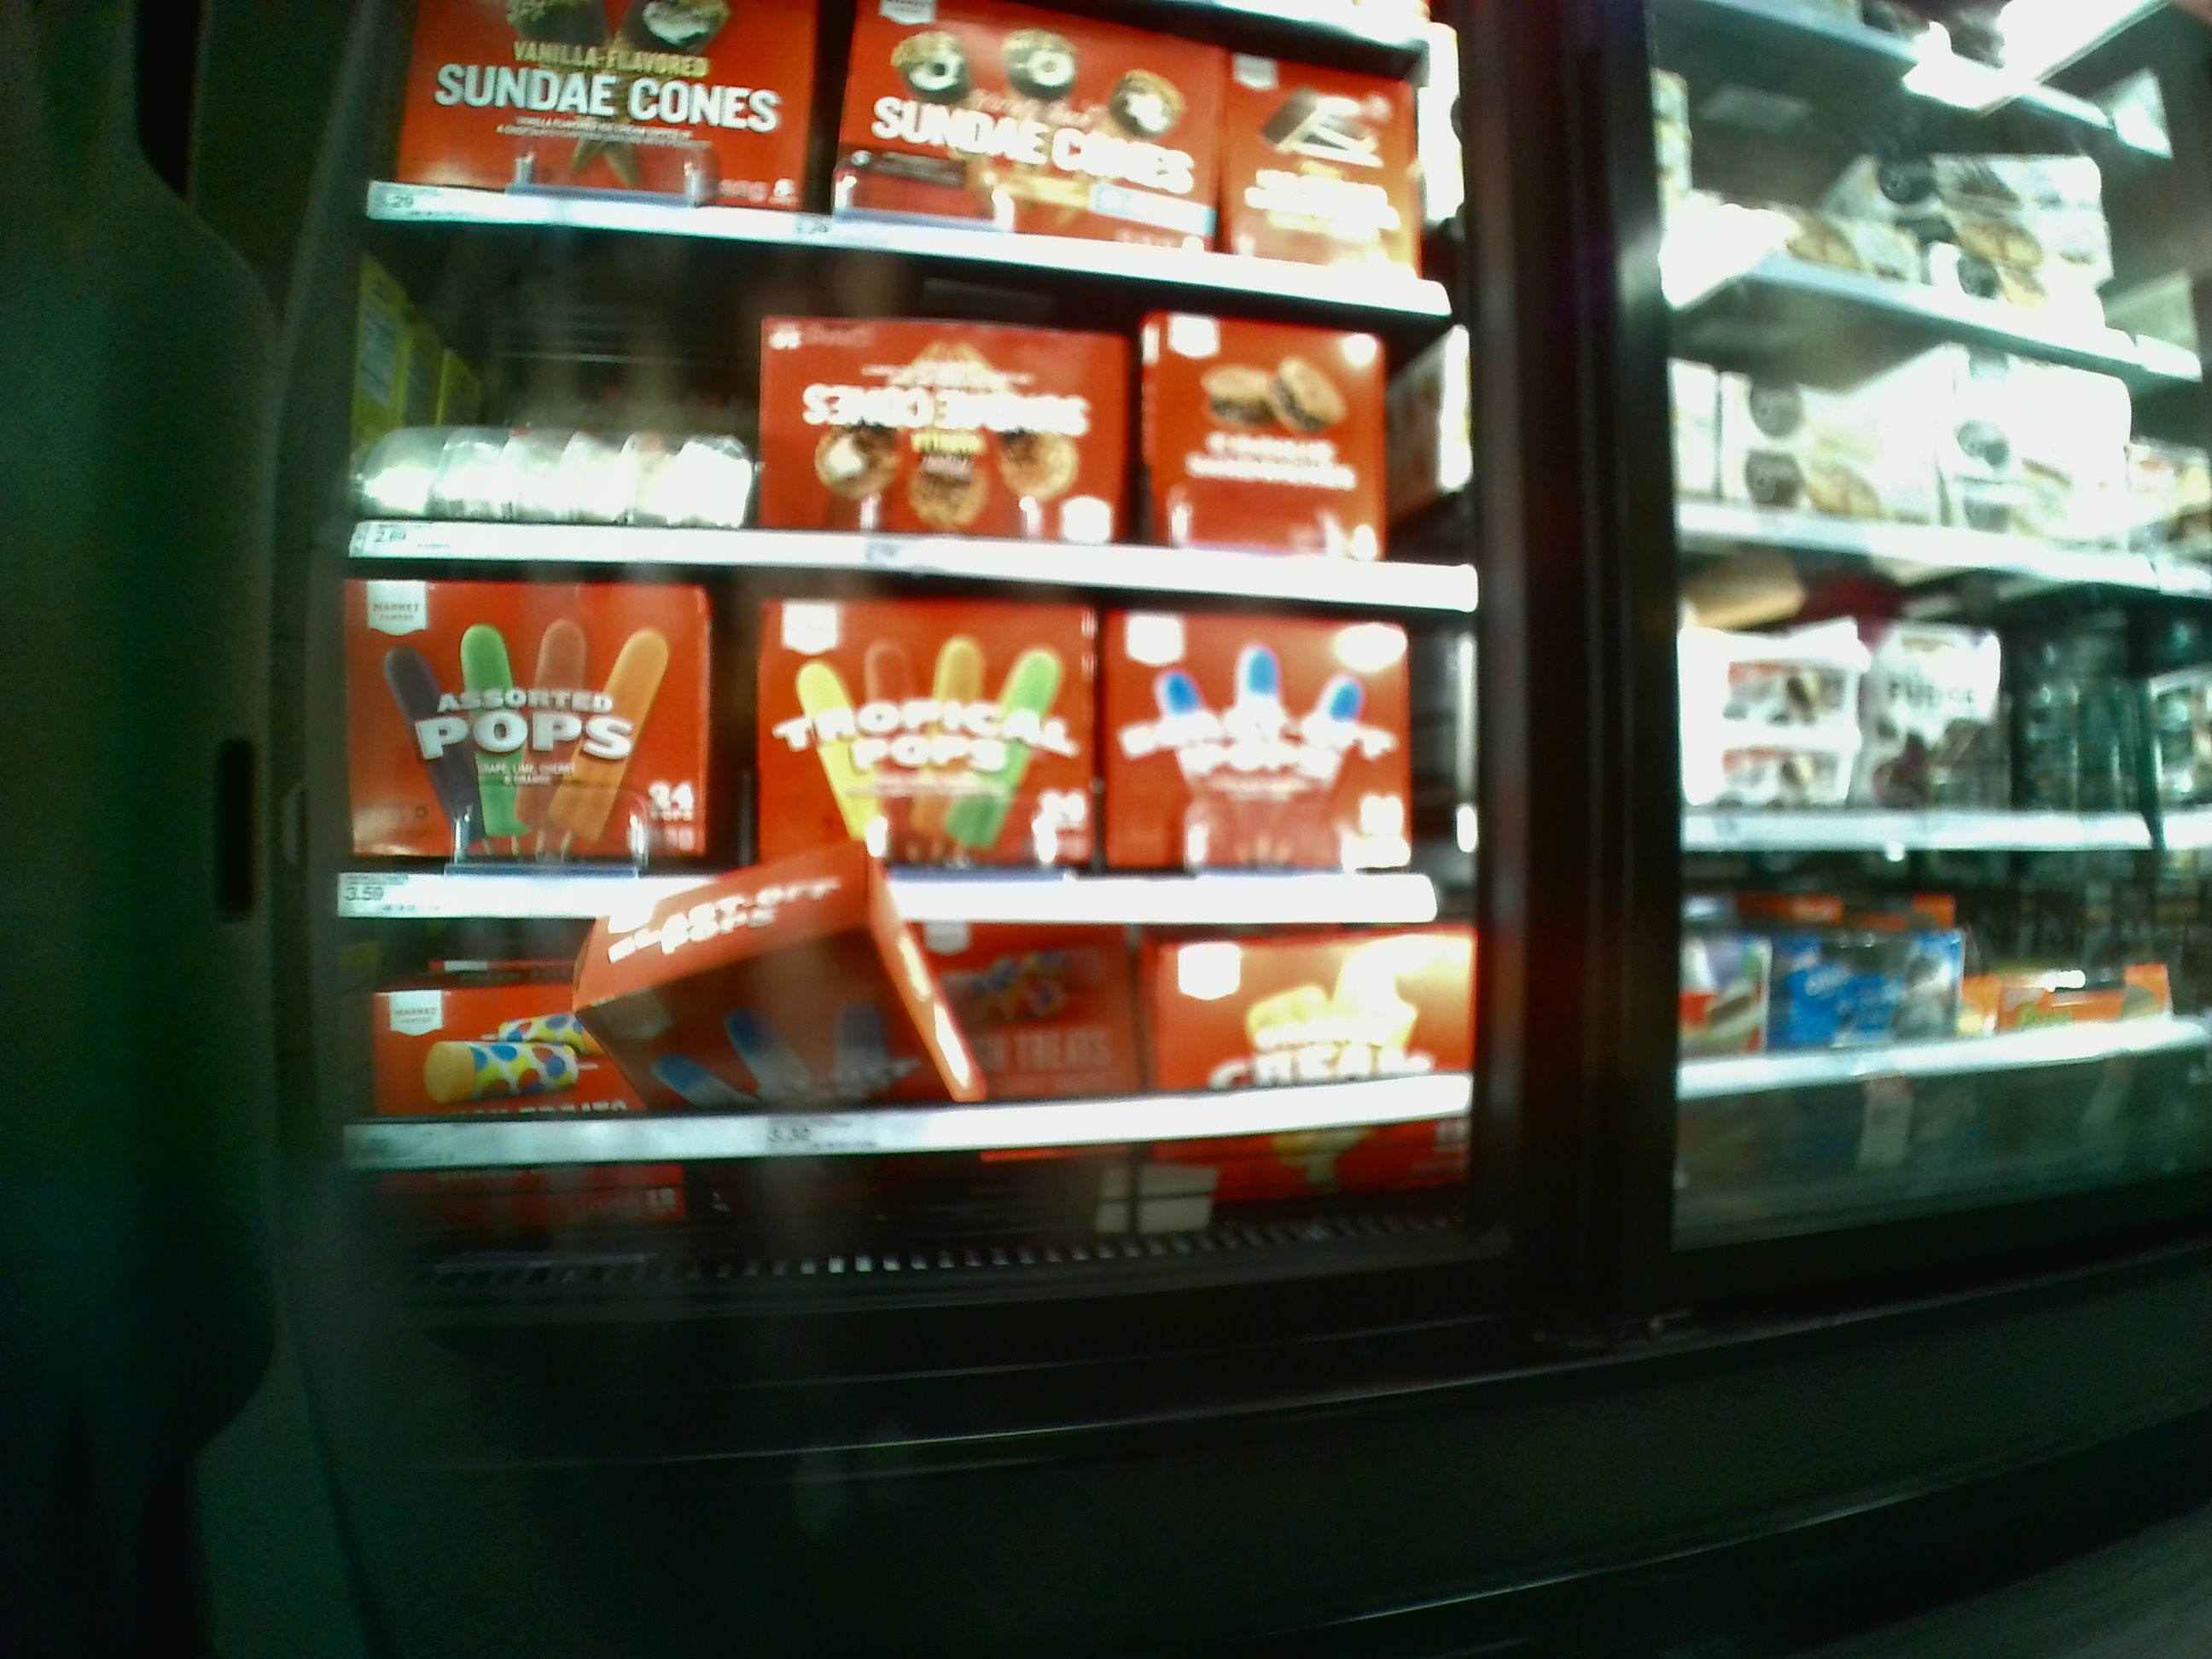shelf: (366, 920, 1475, 1286), (364, 247, 1480, 596), (345, 579, 1474, 910)
